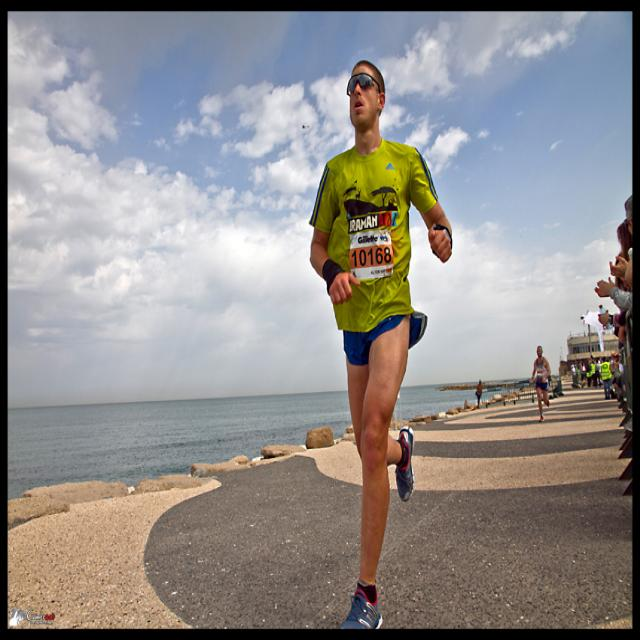Bib: (354, 248, 393, 270)
